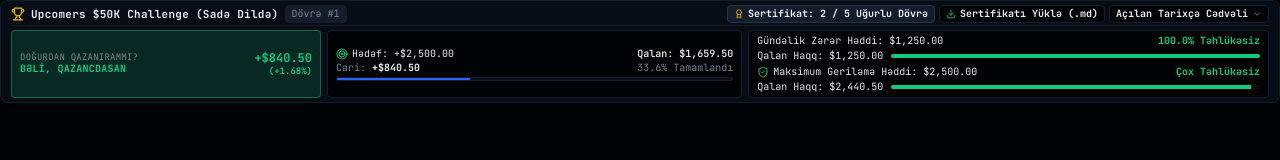
Test: PropFirmChallengeHUD › propfirm-download-cert-btn shows loading state, triggers .md Blob download, and surfaces dismissible errors cleanly
This screenshot has width=1280, height=160.
Later steps or results of the test are not shown.
What coordinates should you click on to do the following:
click the button with test id "propfirm-download-cert-btn"
I would click on:
 (1022, 14)
Its box is [939,5,1105,23].
What coordinates should you click on to do the following:
click the button with test id "propfirm-download-cert-btn"
I would click on:
 (1022, 14)
Its box is [939,5,1105,23].
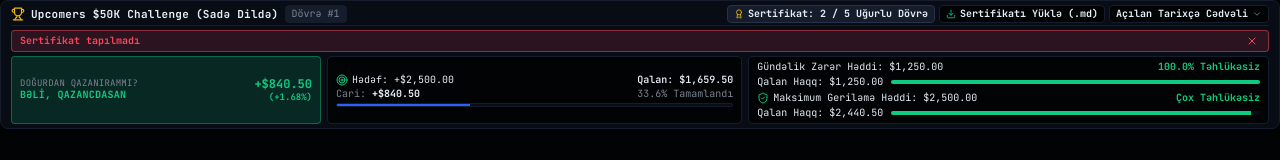
Check: the message "Sertifikat tapılmadı" is shown, box [11,30,1269,52]
Check: the message with test id "propfirm-download-cert-error" reads "Sertifikat tapılmadı", box [20,34,140,47]
Check: the button named "Xətanı bağla" is shown
What coordinates should you click on to do the following:
click the button named "Xətanı bağla"
I would click on:
 (1252, 41)
Its box is [1244,33,1260,49].
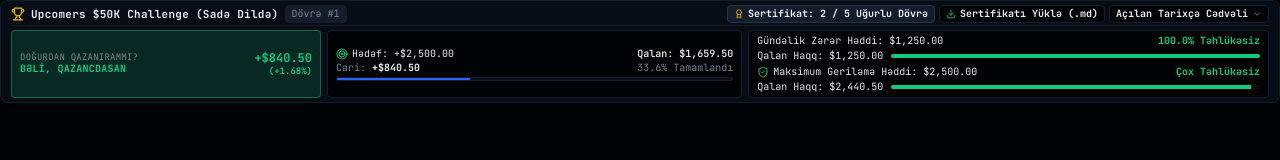
Check: the message with test id "propfirm-download-cert-error" is gone
